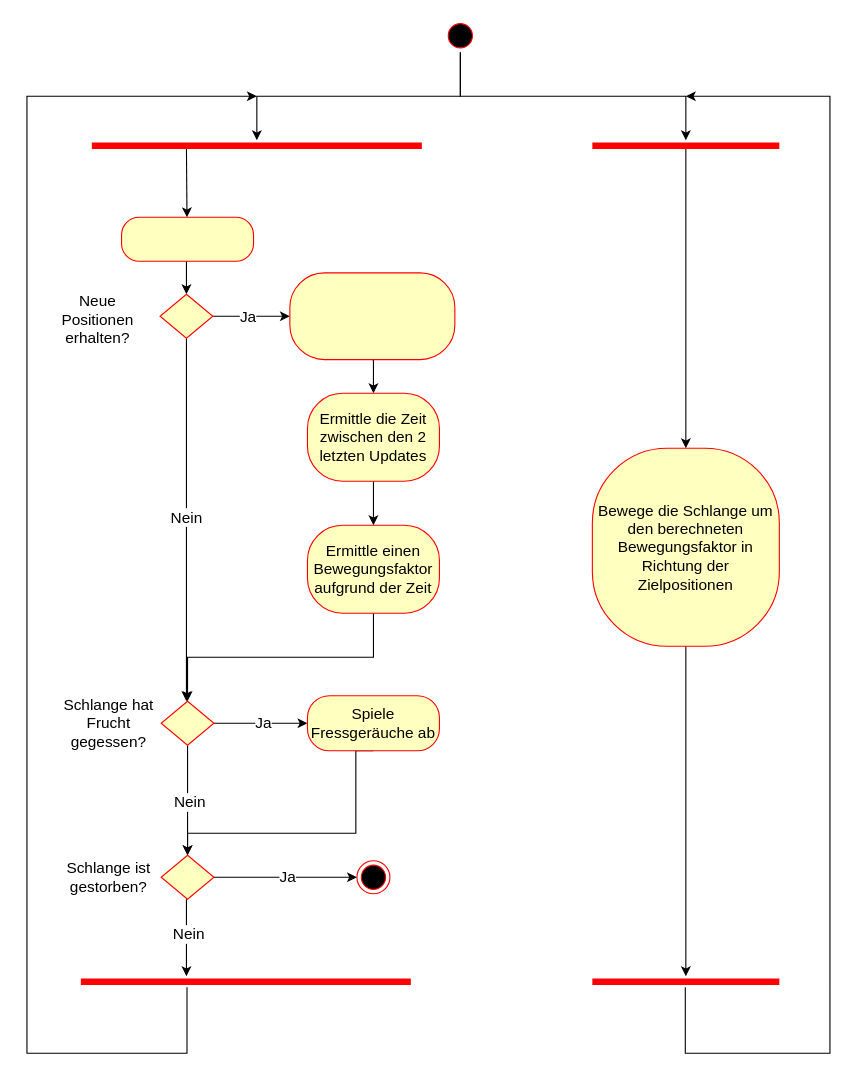
This 858x1081 diagram has some shape labels left out. The shapes that lost their labels are listed below. From the top down, each one's centre as x and y in pixels, then its label:
At [187,238]: "Warte auf Updates".
At [372,316]: "Speichere die Positionen als neue Zielpositionen".
